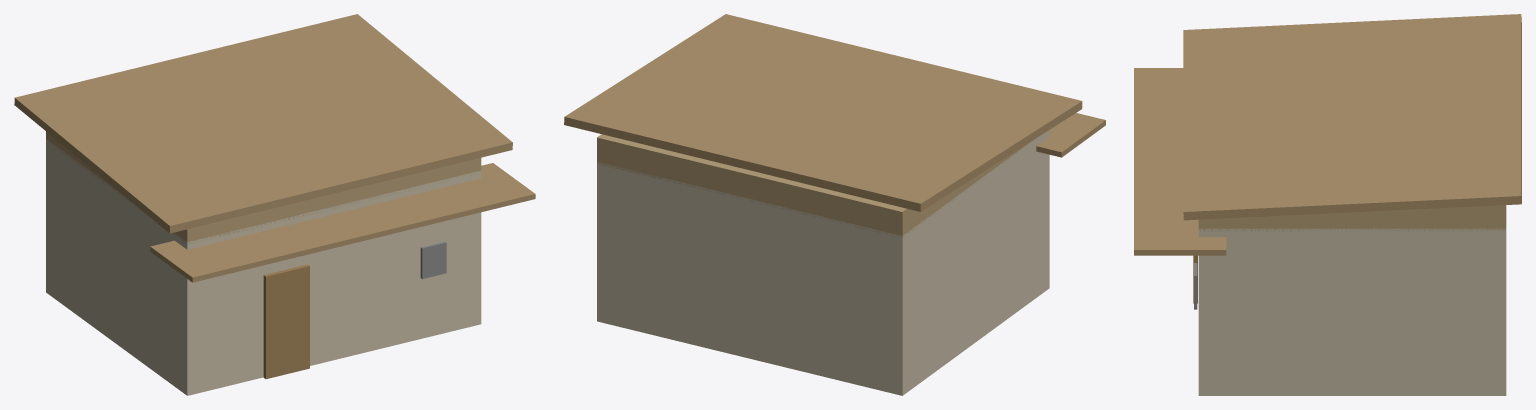
The model's file is env-ww-sheriff.glb.
The picture shows the model from 3 angles, left to right: view 1: azimuth 30°, elevation 25°; view 2: azimuth 150°, elevation 25°; view 3: azimuth 270°, elevation 25°; orthographic projection. The views are drawn at different scales.
Size of the model in its own units: 7 by 3.82 by 6.3.
